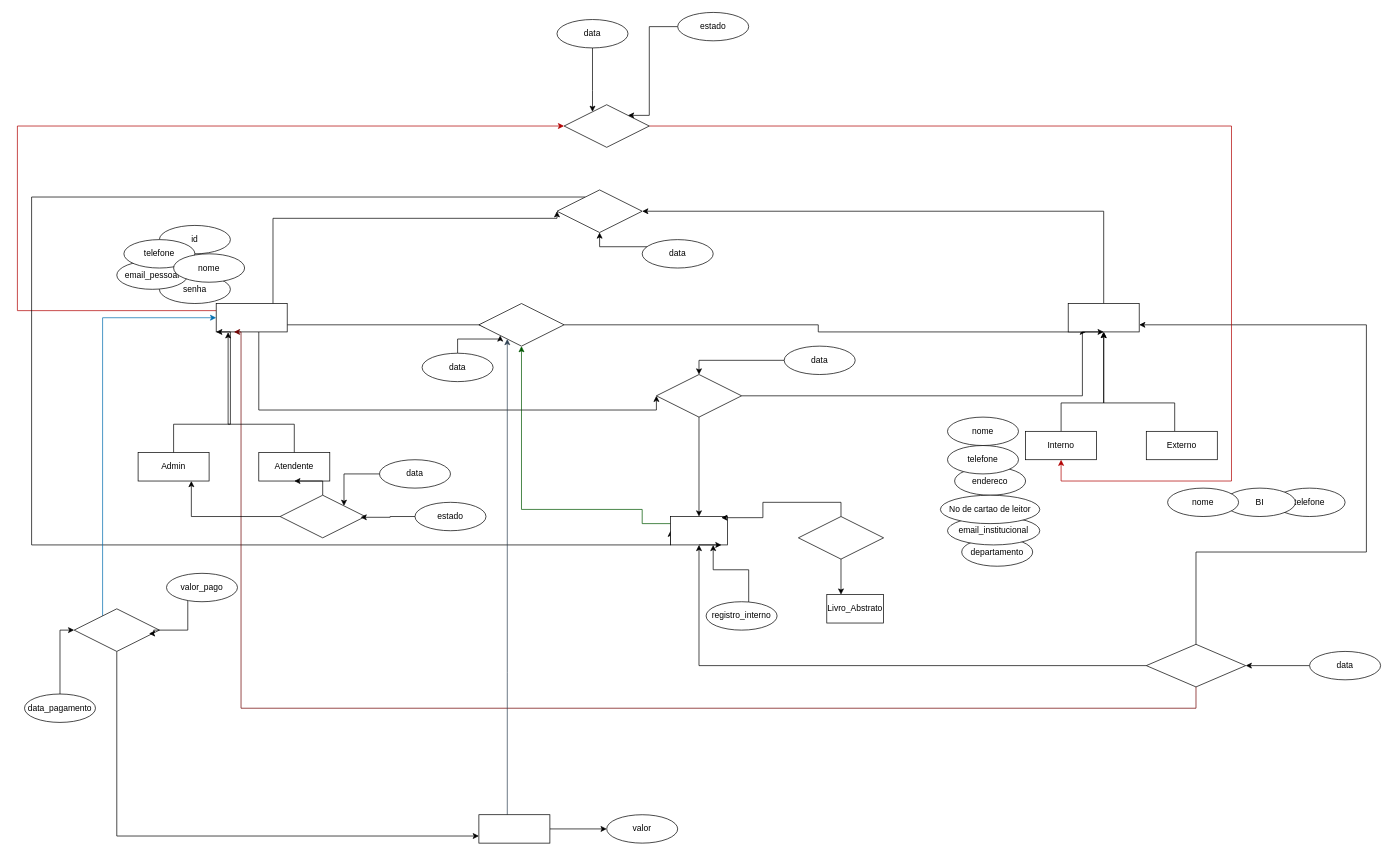
This 1393x856 diagram has some shape labels left out. The box of each missing label's shape, as (x1, y1, x2, y2) in pixels:
Activa_Atendente: (279, 495, 365, 538)
Activa_INterno: (563, 104, 649, 147)
contem: (798, 516, 884, 559)
Devolve_Biblioteca: (1146, 644, 1246, 687)
Devolve_casa: (478, 303, 564, 346)
Exemplar: (670, 516, 727, 545)
Funcionario: (215, 303, 287, 332)
multa: (478, 814, 550, 843)
pagar: (73, 608, 159, 651)
Renova: (556, 189, 642, 233)
solicita: (656, 374, 742, 417)
Utente: (1067, 303, 1139, 332)
